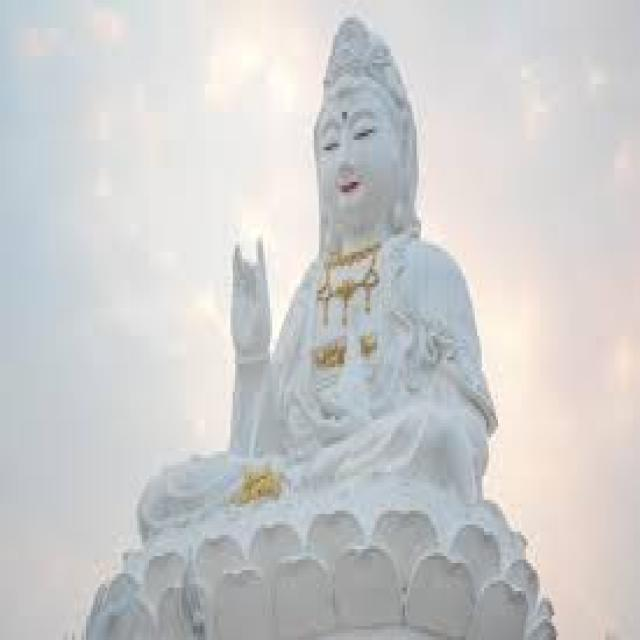Guan Yin: (227, 13, 456, 500)
